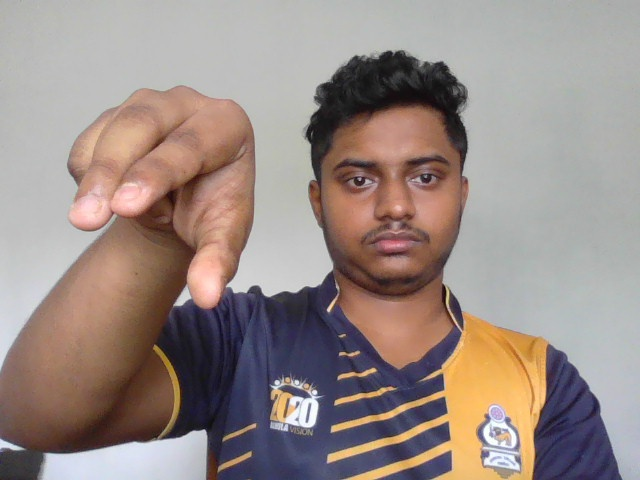No: (65, 85, 258, 312)
